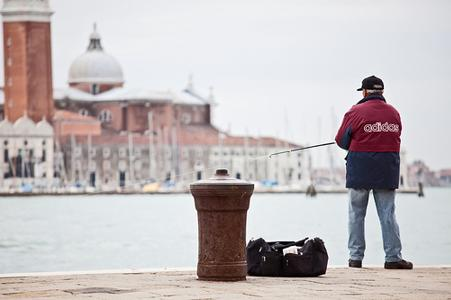person: (335, 77, 415, 271)
